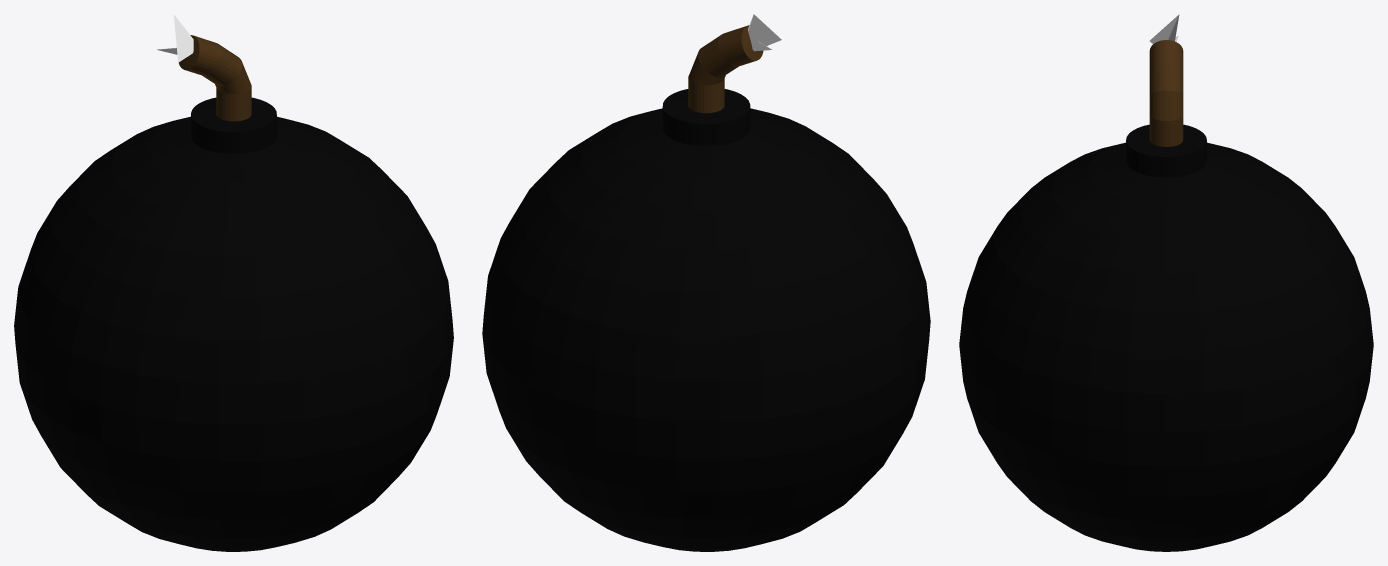
Rendered from bomb.fbx.
3 views of the same model, side by side, from view 1: azimuth 30°, elevation 25°; view 2: azimuth 150°, elevation 25°; view 3: azimuth 270°, elevation 25° (orthographic). The views are drawn at different scales.
Visible parts, largest first — view 1: Sphere, Cube; view 2: Sphere, Cube; view 3: Sphere.
Boxes of the visible parts, box(x1,y1,x2,y2) form: Sphere: box(14, 35, 453, 551); Cube: box(157, 14, 193, 62); Sphere: box(482, 25, 930, 551); Cube: box(748, 14, 781, 51); Sphere: box(959, 40, 1373, 551).
Size of the model in its own units: 200 by 263 by 200.
